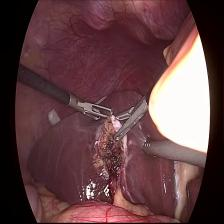Grasper: (109, 90, 151, 147), (70, 92, 116, 128)
Irrigator: (140, 134, 162, 159)
Specimen Bag: (43, 107, 65, 131)
